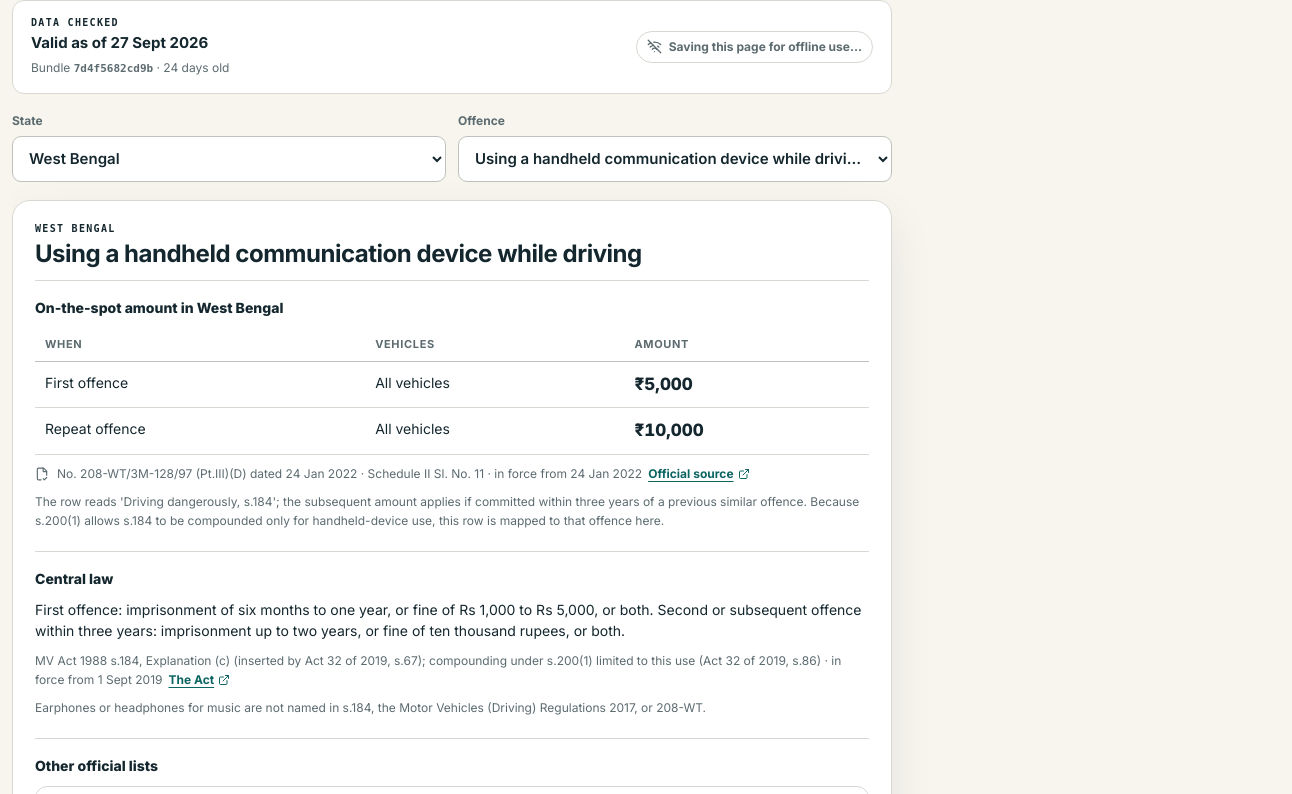
RoadsideMode › explains red-light jumping is under legal review without an amount
Step 1. Select "Jumping a red light" in the dropdown labelled "Offence" → (675, 158), box [458,136,892,182]
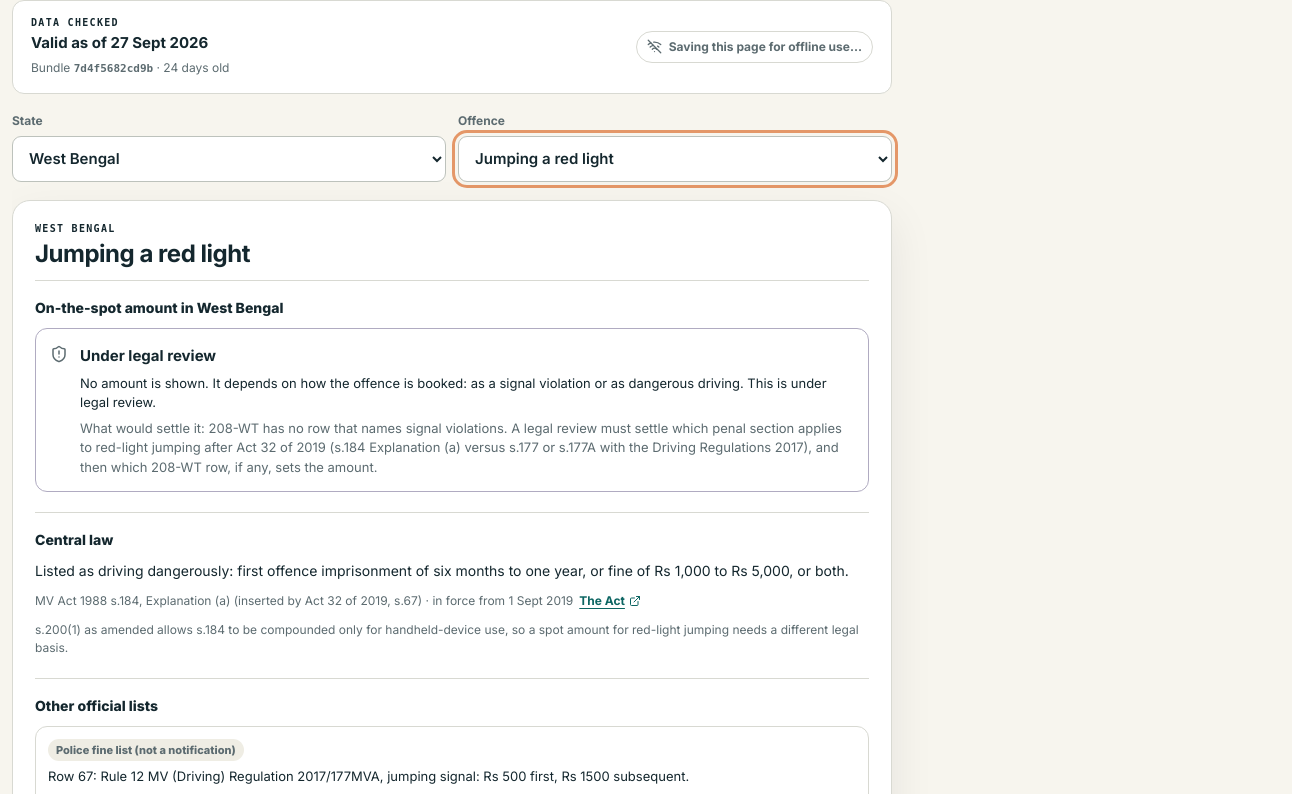
Expected: the text "Police fine list (not a notification)" is shown, [48,739,244,761]
Expected: the text "Under legal review" is shown, [80,346,216,365]
Expected: the cell "On-the-spot amount in" no longer shows "₹"
